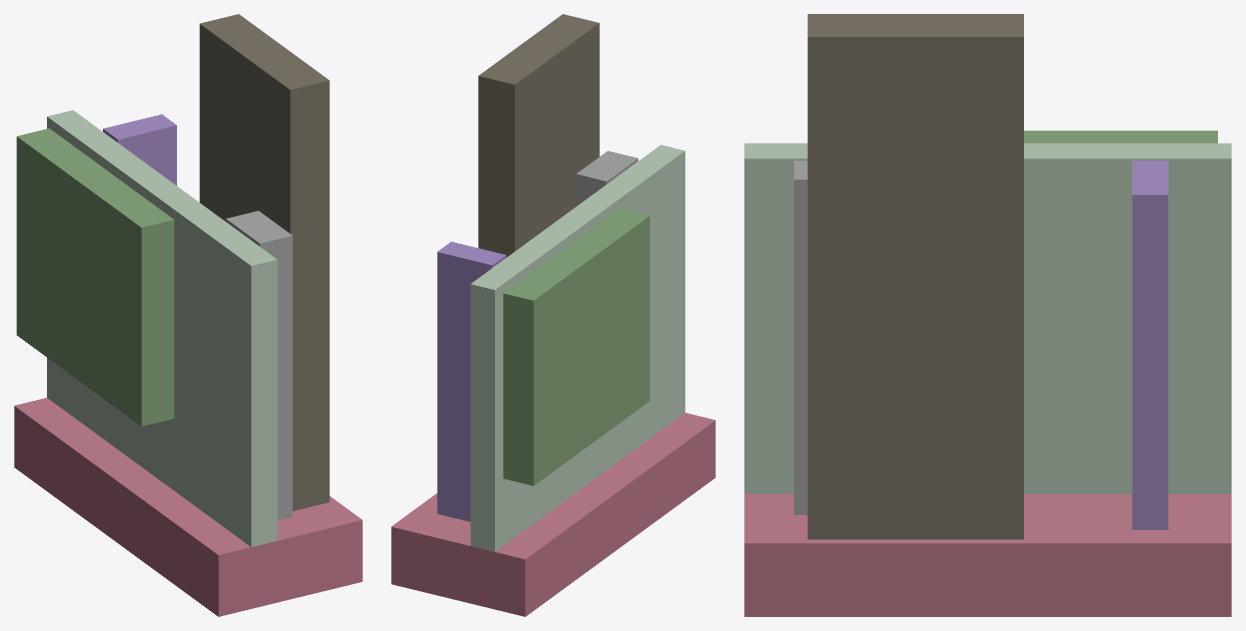
3 views of the same model, side by side, from view 1: azimuth 30°, elevation 25°; view 2: azimuth 150°, elevation 25°; view 3: azimuth 270°, elevation 25° (orthographic). The views are drawn at different scales.
Visible parts, largest first — view 1: world; view 2: world; view 3: world.
Boxes of the visible parts, <box> form: world: <box>14,14,362,616</box>; world: <box>391,14,715,616</box>; world: <box>744,14,1231,616</box>.
Size of the model in its own units: 2.25 by 7.05 by 5.4.
